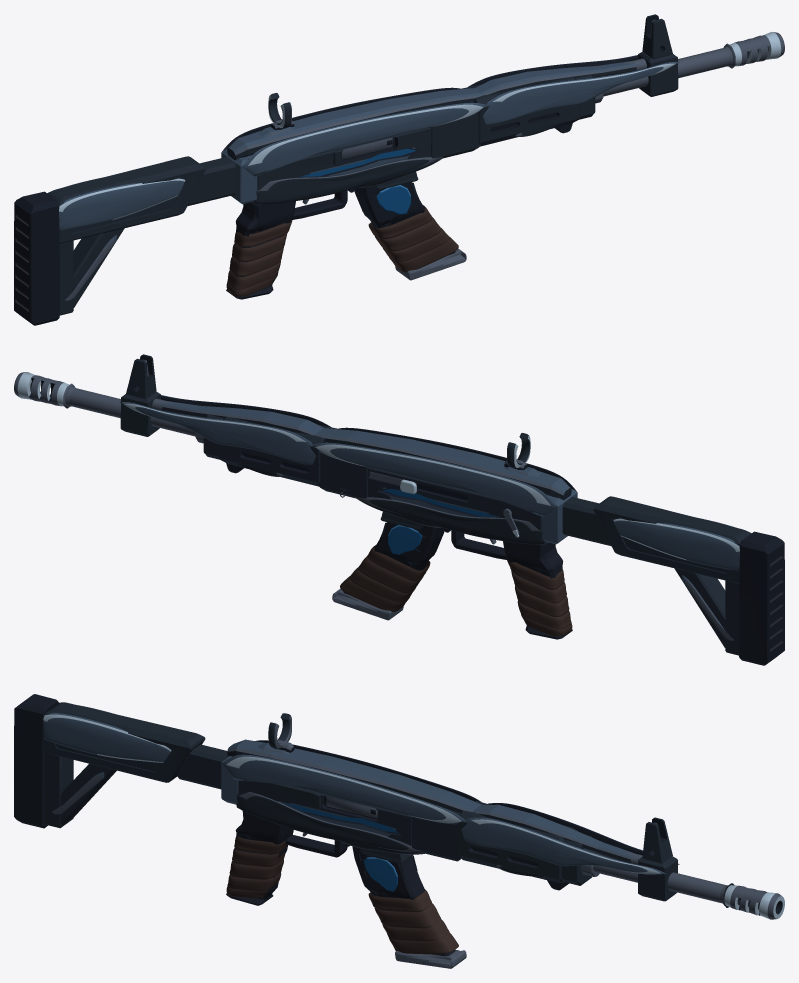
The model's file is Vandal_StormShadow_v19.glb.
3 views of the same model, one above another, from view 1: azimuth 30°, elevation 25°; view 2: azimuth 150°, elevation 25°; view 3: azimuth 330°, elevation 25° (orthographic).
Parts seen in each view (by area): view 1: Stock_FittedChassis.001, Receiver_IndigoForging.001, Rear_SilverPlate_Far.001, Receiver_TransferCover.001, Fore_SilverPlate_Far.001, Stock_CeramicCheek_Far.001, Receiver_LowerCeramicShell_Far.001, Shroud_OctagonalForging.001, Grip_ShapedFactoryTang.001, Mag_ContinuousCurvedShell.001, Sight_StockAxisFront.001, Shroud_UpperSeat.001 (+15 smaller); view 2: Stock_FittedChassis.001, Receiver_IndigoForging.001, Rear_SilverPlate_Player.001, Receiver_TransferCover.001, Fore_SilverPlate_Player.001, Stock_CeramicCheek_Player.001, Receiver_LowerCeramicShell_Player.001, Shroud_OctagonalForging.001, Grip_ShapedFactoryTang.001, Mag_ContinuousCurvedShell.001, Sight_StockAxisFront.001, Shroud_UpperSeat.001 (+15 smaller); view 3: Stock_FittedChassis.001, Receiver_IndigoForging.001, Rear_SilverPlate_Far.001, Receiver_TransferCover.001, Fore_SilverPlate_Far.001, Stock_CeramicCheek_Far.001, Shroud_OctagonalForging.001, Receiver_LowerCeramicShell_Far.001, Mag_ContinuousCurvedShell.001, Grip_ShapedFactoryTang.001, Sight_StockAxisFront.001, Shroud_UpperSeat.001 (+16 smaller).
Boxes of the visible parts, x1,y1,x2,y2 form: Stock_FittedChassis.001: (14, 156, 236, 325); Receiver_IndigoForging.001: (221, 102, 481, 204); Rear_SilverPlate_Far.001: (242, 102, 486, 176); Receiver_TransferCover.001: (227, 88, 482, 160); Fore_SilverPlate_Far.001: (483, 62, 679, 124); Stock_CeramicCheek_Far.001: (59, 178, 185, 230); Receiver_LowerCeramicShell_Far.001: (254, 157, 441, 204); Shroud_OctagonalForging.001: (462, 68, 603, 146); Grip_ShapedFactoryTang.001: (226, 190, 347, 299); Mag_ContinuousCurvedShell.001: (354, 182, 466, 280); Sight_StockAxisFront.001: (638, 14, 678, 96); Shroud_UpperSeat.001: (475, 61, 639, 95); Stock_FittedChassis.001: (562, 496, 784, 665); Receiver_IndigoForging.001: (317, 442, 577, 544); Rear_SilverPlate_Player.001: (312, 442, 556, 516); Receiver_TransferCover.001: (316, 428, 571, 500); Fore_SilverPlate_Player.001: (119, 402, 315, 464); Stock_CeramicCheek_Player.001: (613, 518, 739, 570); Receiver_LowerCeramicShell_Player.001: (357, 497, 544, 544); Shroud_OctagonalForging.001: (195, 408, 336, 486); Grip_ShapedFactoryTang.001: (451, 530, 572, 639); Mag_ContinuousCurvedShell.001: (332, 522, 444, 620); Sight_StockAxisFront.001: (120, 354, 160, 436); Shroud_UpperSeat.001: (158, 401, 323, 435); Stock_FittedChassis.001: (14, 694, 227, 828); Receiver_IndigoForging.001: (221, 756, 461, 863); Rear_SilverPlate_Far.001: (222, 754, 465, 824); Receiver_TransferCover.001: (227, 739, 482, 813); Fore_SilverPlate_Far.001: (461, 817, 666, 874); Stock_CeramicCheek_Far.001: (43, 712, 186, 762); Shroud_OctagonalForging.001: (458, 801, 599, 890); Receiver_LowerCeramicShell_Far.001: (236, 792, 422, 852); Mag_ContinuousCurvedShell.001: (352, 846, 466, 968); Grip_ShapedFactoryTang.001: (226, 811, 347, 905); Sight_StockAxisFront.001: (638, 817, 677, 901); Shroud_UpperSeat.001: (474, 804, 634, 862).
Bounding box in the file's own units: 3.9 × 1.02 × 0.2376.
